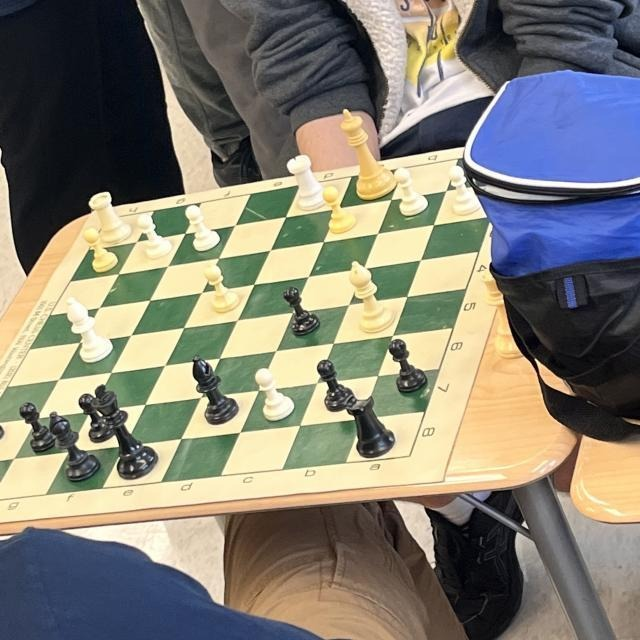black-bishop: (190, 355, 240, 426)
black-king: (92, 383, 159, 481)
black-pawn: (388, 337, 428, 394), (17, 400, 55, 456), (317, 360, 355, 412), (77, 392, 115, 444), (284, 285, 320, 337)
black-rook: (346, 396, 398, 457)
white-bishop: (347, 260, 396, 332), (65, 296, 114, 364)
white-king: (339, 107, 396, 200)
white-pawn: (254, 366, 294, 422), (203, 263, 241, 313), (393, 166, 427, 218), (136, 211, 172, 260), (322, 183, 358, 232), (82, 226, 118, 274), (186, 203, 220, 253), (447, 165, 480, 215)
white-rook: (89, 190, 132, 246), (287, 154, 327, 212)
